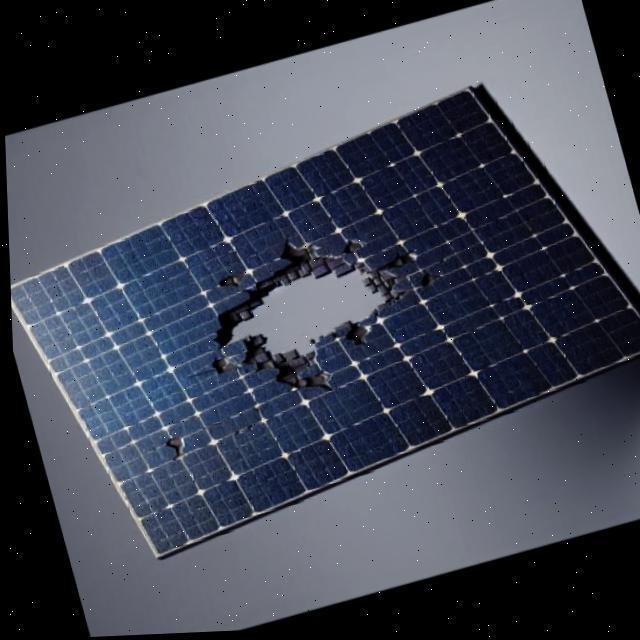Anomaly Solar Panel: (8, 63, 640, 570)
Structural Damage: (180, 183, 438, 441), (156, 433, 186, 465), (209, 271, 248, 293), (336, 240, 361, 255)
